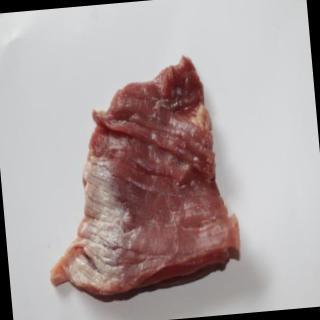Daging Sapi: (32, 52, 245, 307)
